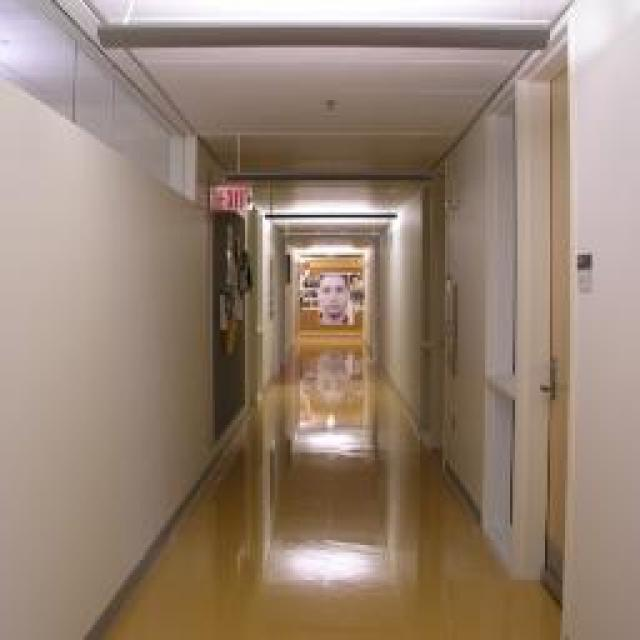2001: (2, 0, 195, 200), (485, 88, 515, 550)
bulletin board: (210, 198, 245, 440)
ceiling beam: (82, 0, 575, 258)
door bars: (515, 22, 565, 620), (418, 168, 442, 442), (275, 258, 285, 350)
exit sign: (208, 185, 250, 210)
floor -X: (100, 335, 562, 638)
poster crop: (318, 272, 350, 322)
room label: (575, 252, 592, 290)
wall clock: (2, 0, 295, 638), (360, 0, 638, 638)
